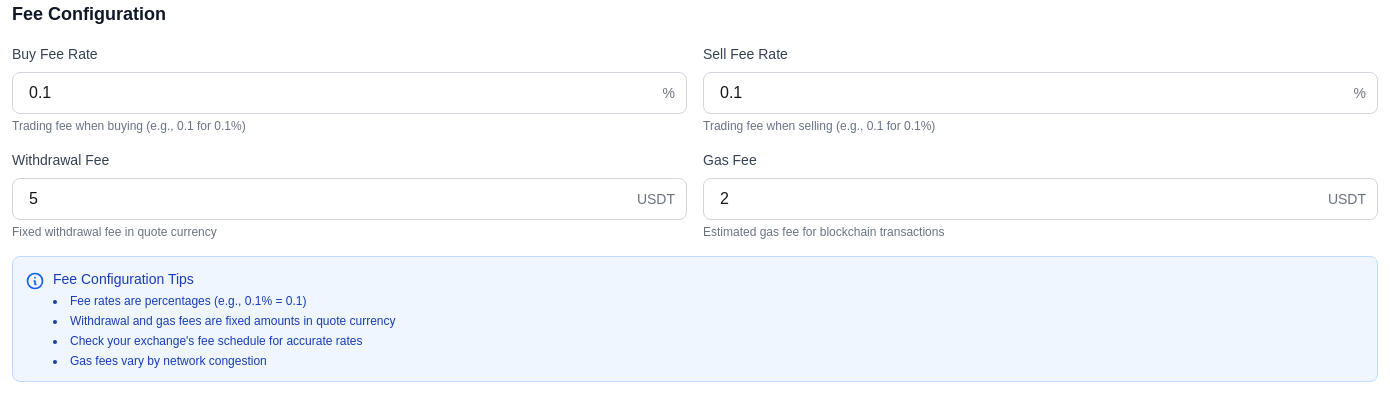
Test case: FeeConfigForm Component › Buy Fee Rate Input › should reject negative values
Try to type negative value - the pattern should prevent it
Type "-1" into the field labelled "Buy Fee Rate".
click(350, 93); type("-1")  # box 12,72 -> 687,114
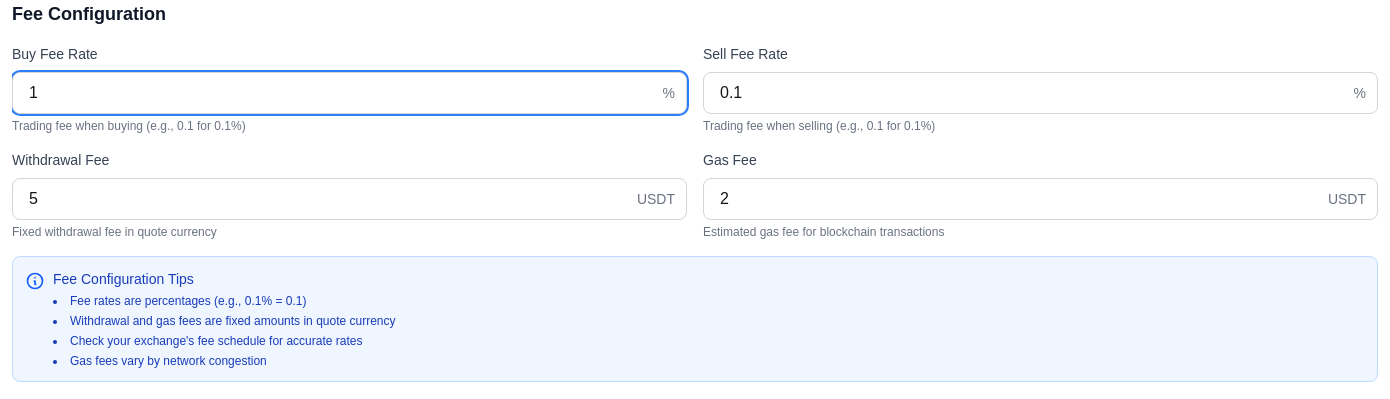
Check: the field labelled "Buy Fee Rate" holds "1", box 12,72 -> 687,114
